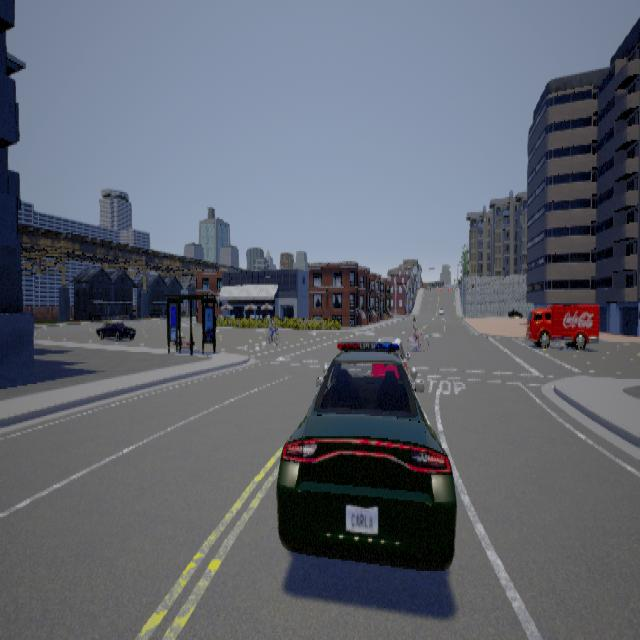bike: (407, 314, 429, 351), (263, 320, 281, 342)
vehicle: (275, 335, 456, 569), (525, 303, 598, 349), (95, 320, 135, 340)
